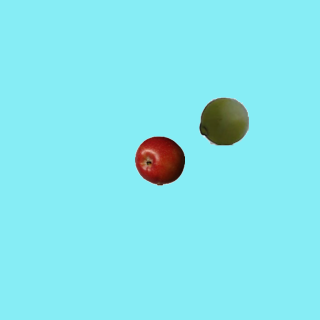Apple Braeburn: (134, 135, 184, 185)
Grape White 4: (198, 95, 248, 145)
